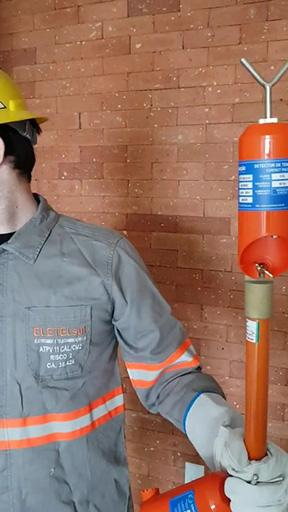Detector_Tensao_Contato: (236, 54, 288, 285)
